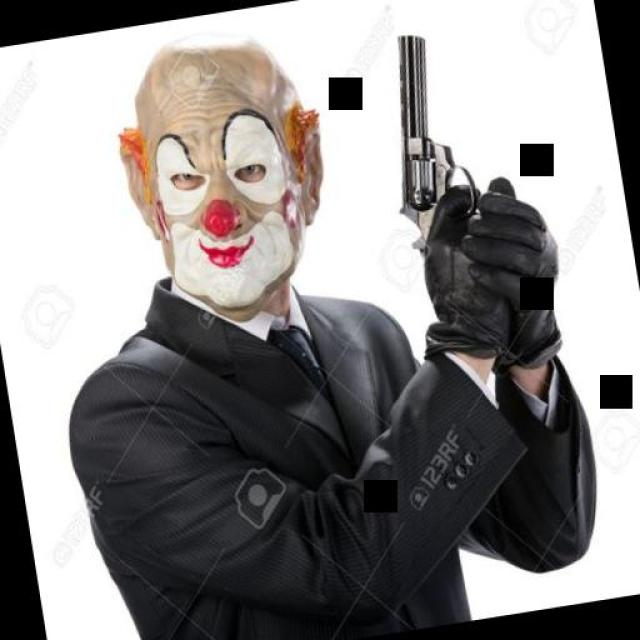gun: (368, 17, 510, 282)
